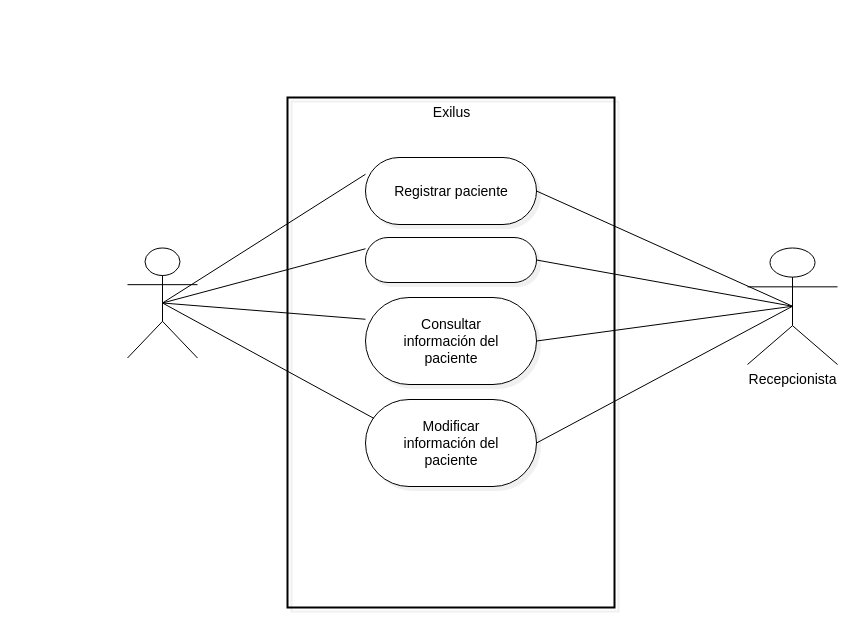
The diagram is 855 pixels wide and 629 high, and some of its shapes have lost their labels. The centre of each missing label's shape, as x and y in pixels:
Buscar paciente: (x=452, y=261)
Tecnóloga Médica: (x=162, y=302)
